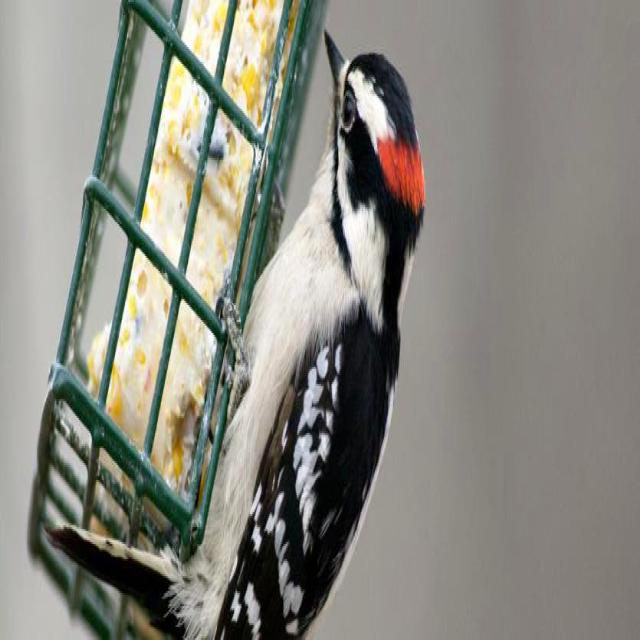woodpecker: (49, 32, 425, 638)
